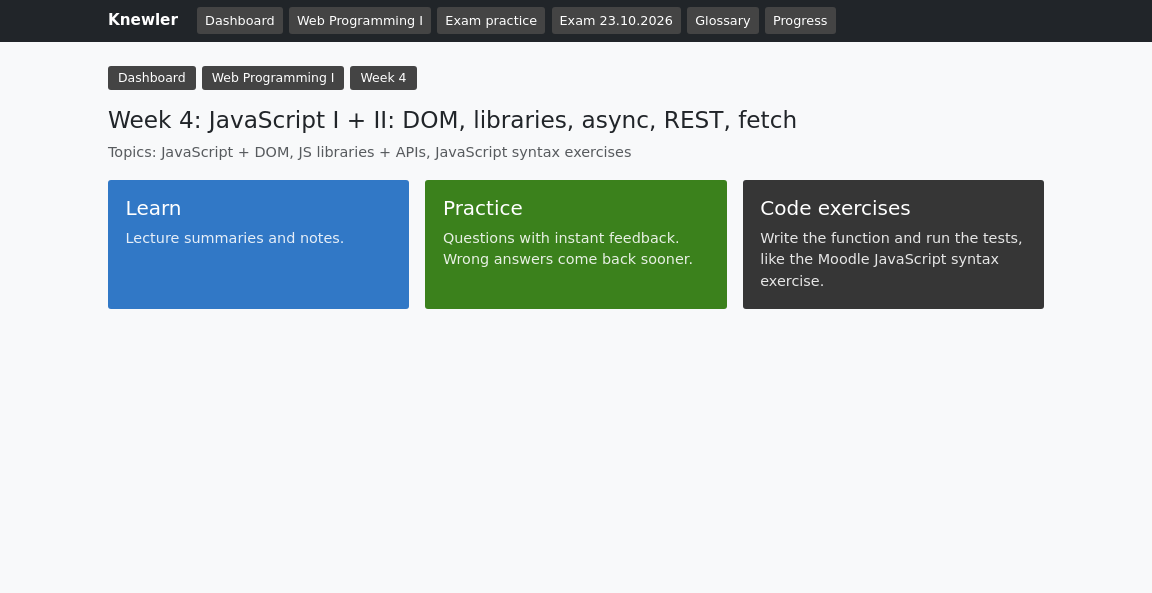
Test: Code exercises › is reachable from week 4, and not from week 5
Click the link "Code exercises" at (893, 244), box [743,180,1044,308]
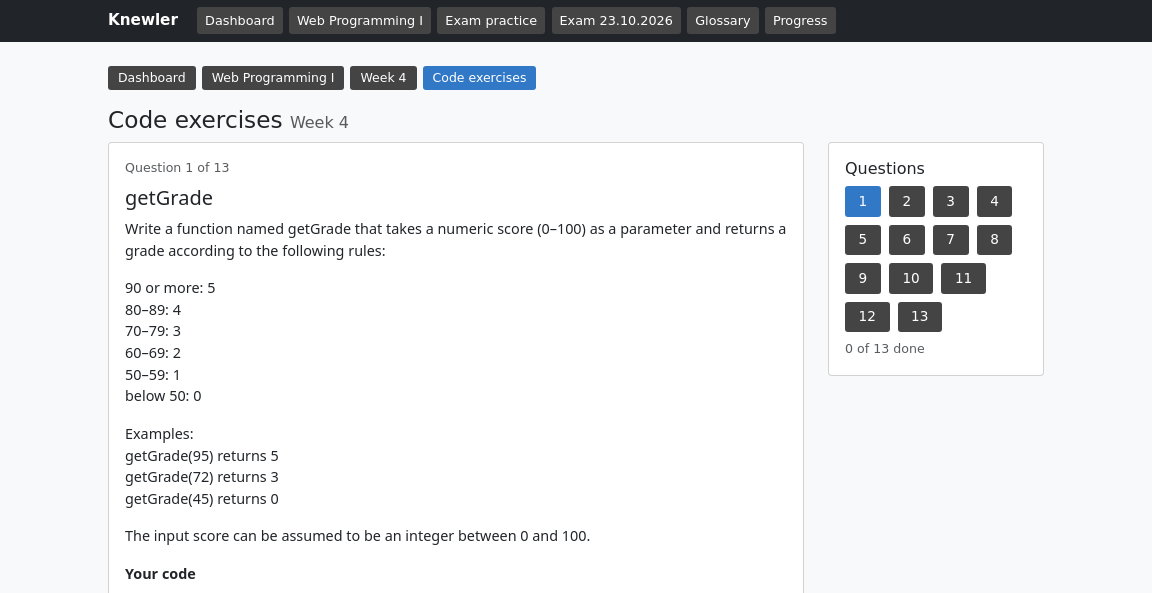
Result: the heading "getGrade" is shown at [125,184,213,211]
